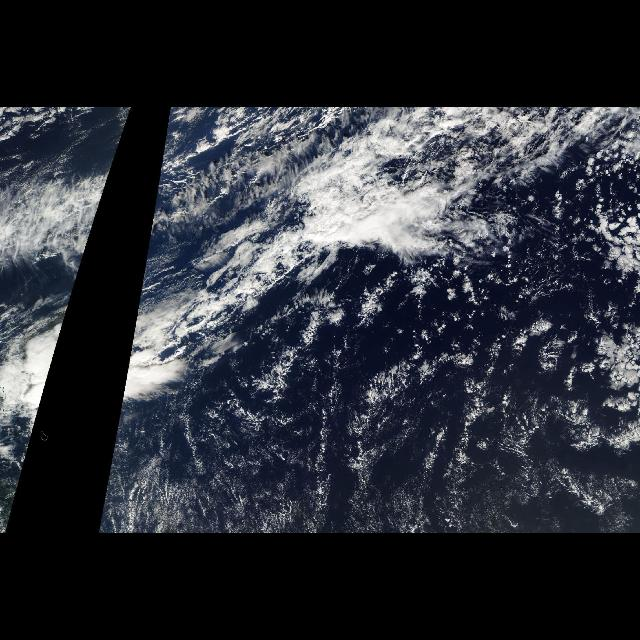Fish: (541, 444, 637, 530)
Flower: (570, 138, 640, 410)
Gravel: (172, 396, 472, 526)
Sugar: (126, 397, 556, 533)
